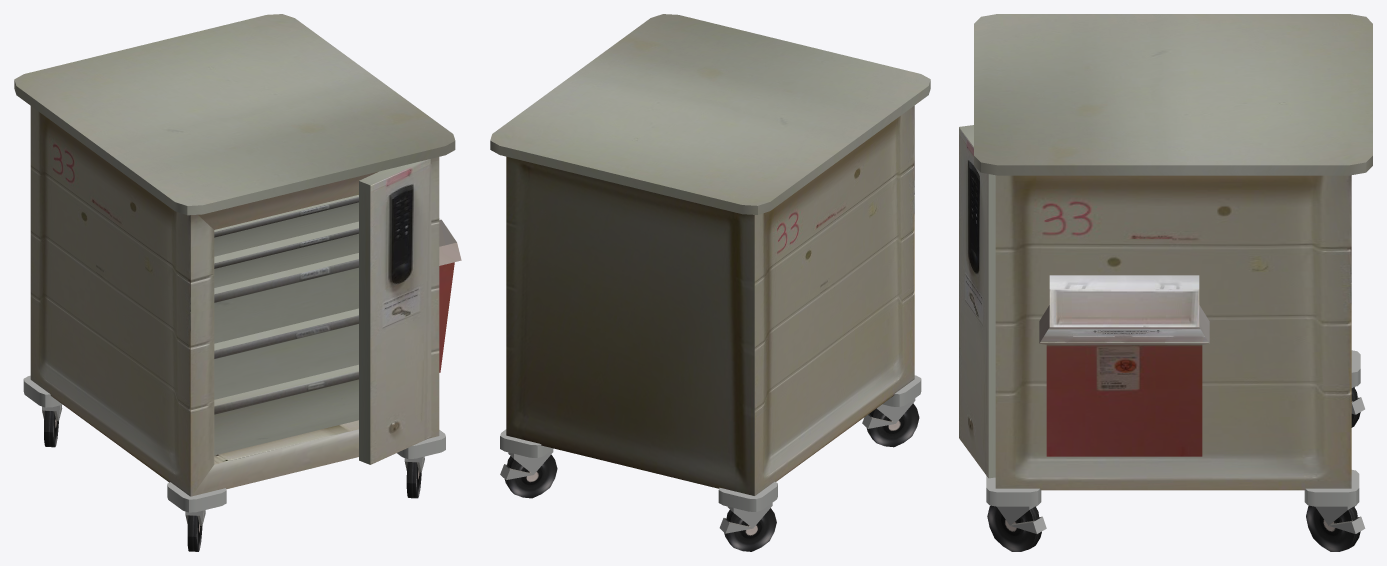
The model's file is Supply_cart.fbx.
3 views of the same model, side by side, from view 1: azimuth 30°, elevation 25°; view 2: azimuth 150°, elevation 25°; view 3: azimuth 270°, elevation 25° (orthographic). The views are drawn at different scales.
Parts seen in each view (by area): view 1: supply_cabinet, door, pCube4, pCube5, pCube3, pCube2, pCube6, trash_can, wheel (×2), Wheel_Cube1, wheel2, Wheel_Cube2; view 2: supply_cabinet, wheel1, wheel2, wheel, Wheel_Cube2, Wheel_Cube4, Wheel_Cube1; view 3: supply_cabinet, trash_can, door, wheel, wheel1, Wheel_Cube4, Wheel_Cube.
Boxes of the visible parts, x1,y1,x2,y2 form: supply_cabinet: [14, 14, 455, 496]; door: [359, 159, 431, 464]; pCube4: [214, 308, 358, 399]; pCube5: [214, 364, 358, 455]; pCube3: [214, 253, 358, 343]; pCube2: [214, 221, 358, 287]; pCube6: [214, 195, 358, 256]; trash_can: [439, 218, 461, 372]; wheel (×2): [185, 456, 424, 551]; Wheel_Cube1: [167, 482, 226, 512]; wheel2: [42, 405, 62, 447]; Wheel_Cube2: [23, 375, 62, 407]; supply_cabinet: [490, 14, 930, 495]; wheel1: [500, 449, 557, 498]; wheel2: [719, 503, 776, 551]; wheel: [862, 398, 919, 447]; Wheel_Cube2: [718, 481, 777, 511]; Wheel_Cube4: [500, 429, 553, 457]; Wheel_Cube1: [882, 375, 921, 406]; supply_cabinet: [974, 14, 1372, 490]; trash_can: [1039, 275, 1209, 456]; door: [959, 125, 995, 478]; wheel: [987, 505, 1046, 551]; wheel1: [1306, 505, 1365, 551]; Wheel_Cube4: [1304, 470, 1359, 506]; Wheel_Cube: [986, 477, 1041, 506].
Size of the model in its own units: 3.31 by 3.73 by 3.49.
Materials: 5 (2 with a texture image).
